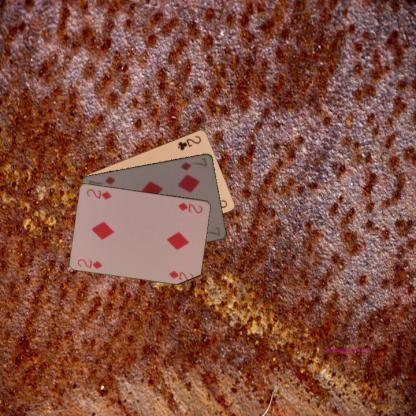2c: (175, 133, 202, 151)
2d: (176, 199, 204, 214), (75, 256, 104, 270)
7d: (179, 154, 208, 172)
